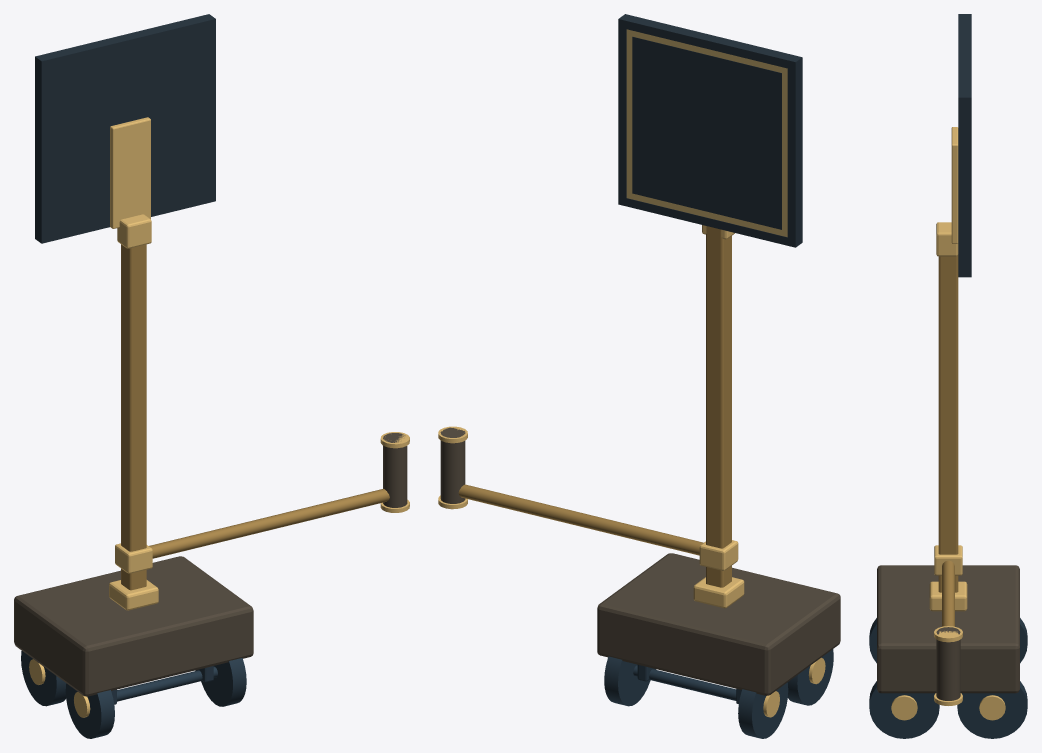
File: silhouette-panel-cart-v01.glb
The picture shows the model from 3 angles, left to right: view 1: azimuth 30°, elevation 25°; view 2: azimuth 150°, elevation 25°; view 3: azimuth 270°, elevation 25°; orthographic projection. The views are drawn at different scales.
Visible parts, largest first — view 1: Shadow panel ink 0, Shadow bronze dark 4, Shadow brass 3, Shadow brass light 2, Shadow iron dark 5; view 2: Shadow panel ink 0, Shadow bronze dark 4, Shadow brass 3, Shadow iron dark 5, Shadow gold 1, Shadow brass light 2; view 3: Shadow bronze dark 4, Shadow brass 3, Shadow iron dark 5, Shadow brass light 2, Shadow panel ink 0.
Part boxes in pixels (x1=…): Shadow panel ink 0: x1=35, y1=14, x2=215, y2=243; Shadow bronze dark 4: x1=14, y1=433, x2=407, y2=696; Shadow brass 3: x1=121, y1=244, x2=389, y2=590; Shadow brass light 2: x1=29, y1=117, x2=409, y2=717; Shadow iron dark 5: x1=21, y1=651, x2=246, y2=738; Shadow panel ink 0: x1=618, y1=14, x2=802, y2=247; Shadow bronze dark 4: x1=440, y1=427, x2=840, y2=695; Shadow brass 3: x1=458, y1=226, x2=731, y2=587; Shadow iron dark 5: x1=604, y1=649, x2=833, y2=738; Shadow gold 1: x1=626, y1=29, x2=787, y2=237; Shadow brass light 2: x1=438, y1=225, x2=825, y2=717; Shadow bronze dark 4: x1=877, y1=565, x2=1019, y2=700; Shadow brass 3: x1=938, y1=254, x2=958, y2=626; Shadow iron dark 5: x1=869, y1=618, x2=1027, y2=738; Shadow brass light 2: x1=891, y1=127, x2=1005, y2=720; Shadow panel ink 0: x1=958, y1=14, x2=971, y2=277.
Size of the model in its own units: 1.87 by 3.25 by 0.72.
